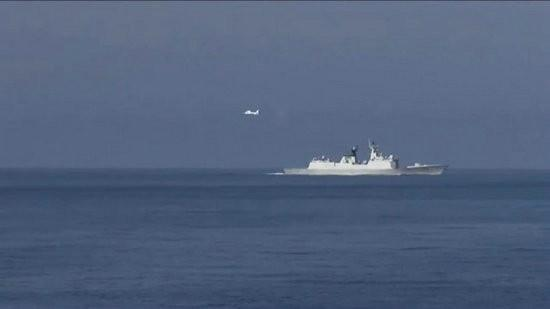MIL_Ship: (267, 136, 453, 176)
